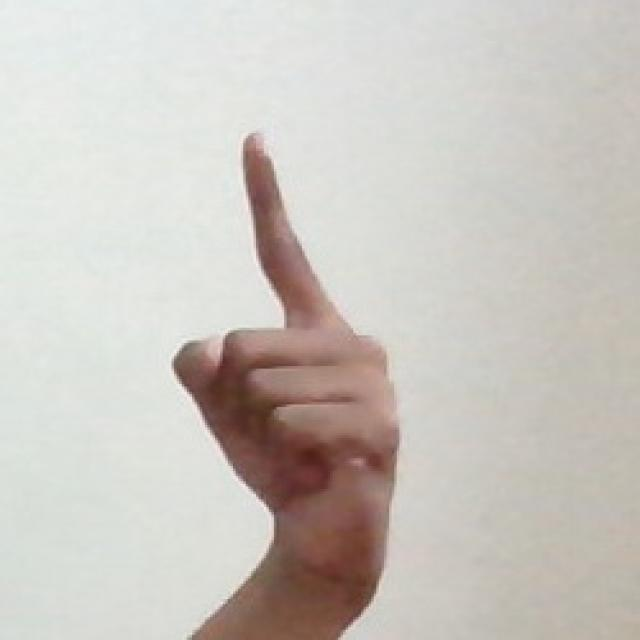Alphabet-I: (157, 123, 426, 608)
